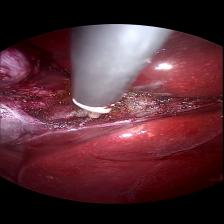Hook: (70, 92, 124, 124)
